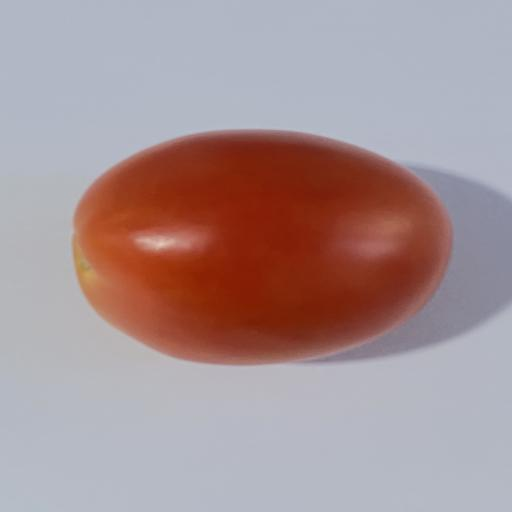ripe: (73, 130, 452, 365)
